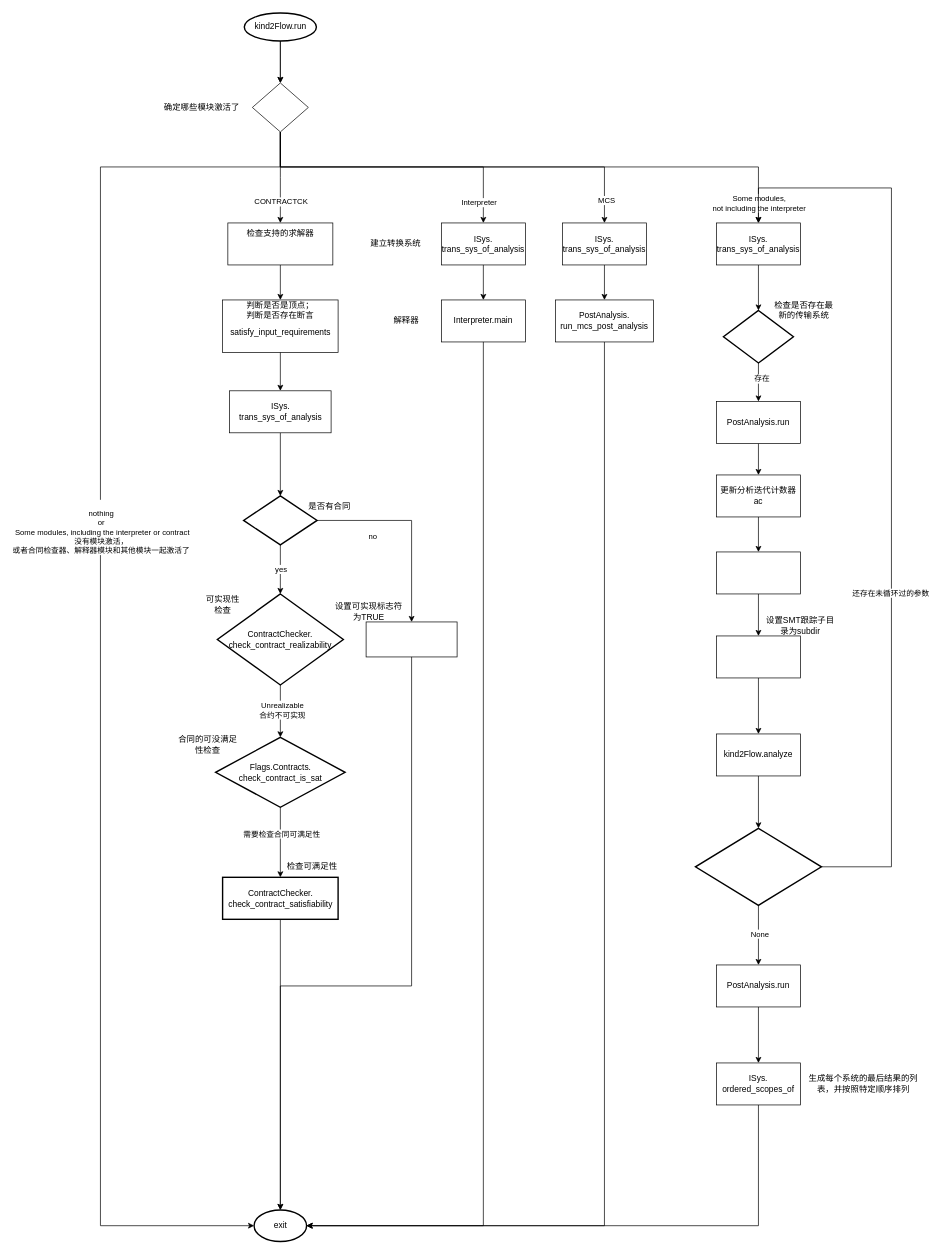
The diagram is 941 pixels wide and 1254 high, and some of its shapes have lost their labels. The shapes that lost their labels are listed below. From the top down, each one's box as (x1, y1, x2, y2) in pixels, then its label:
(252, 82, 308, 132): Flags. enabled
(227, 222, 333, 265): check_solver_is_supported
(722, 309, 794, 363): latest_trans_sys
(243, 495, 317, 545): has_contract
(716, 551, 800, 594): 得到子目录名subdir
(365, 621, 457, 657): Realizability.Realizable Term.t_true
(716, 635, 800, 678): Flags.Smt. set_trace_subdir
(694, 827, 822, 906): ISys. next_analysis_of_strategy
